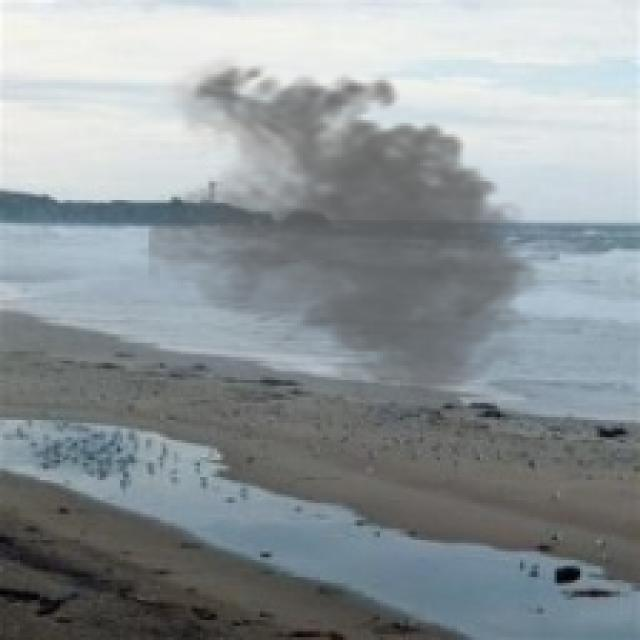smoke: (149, 54, 557, 400)
